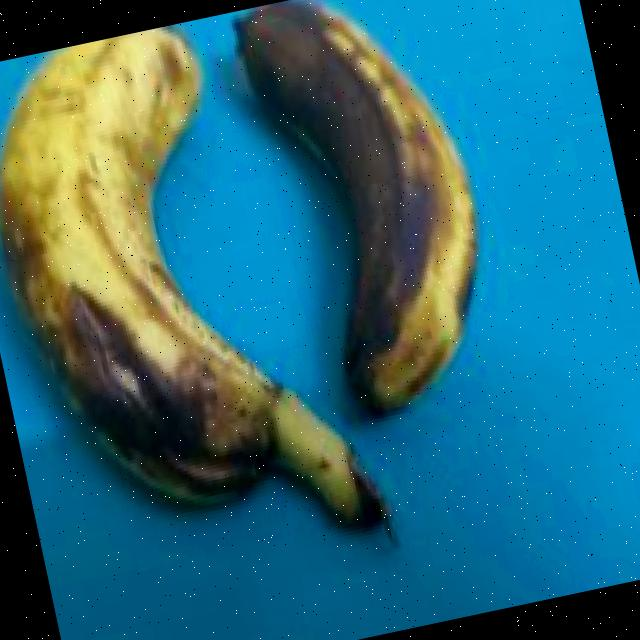Rotten: (0, 17, 318, 598), (212, 0, 569, 466)
